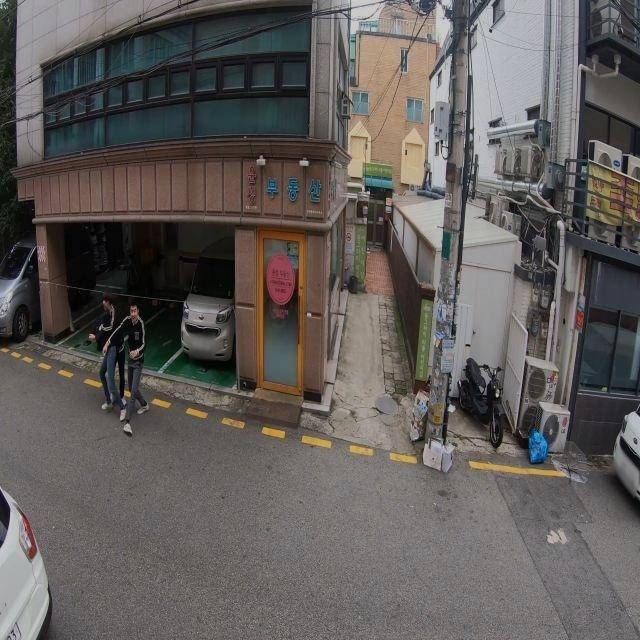fight: (91, 296, 150, 432)
